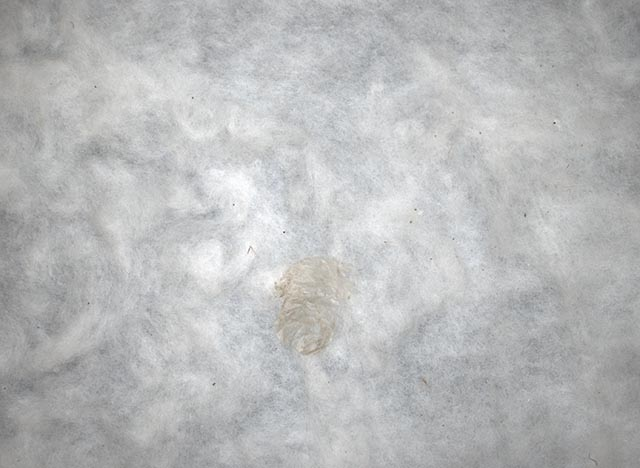plastic film: (273, 254, 351, 357)
